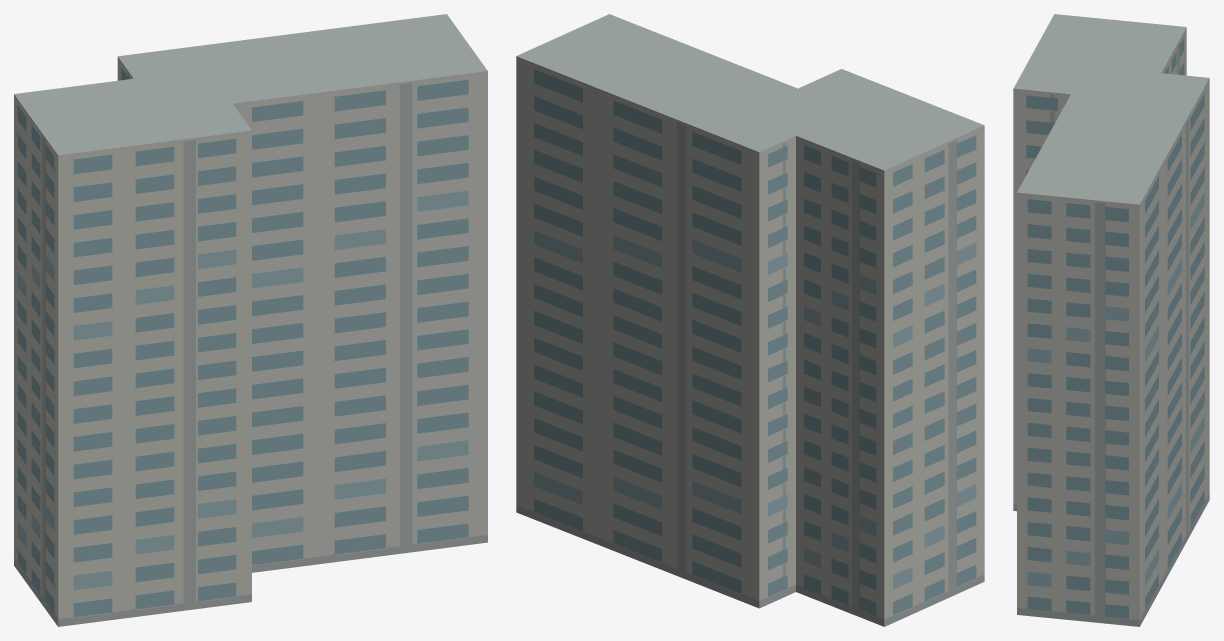
Rendered from residential-e62f8ce1-45bc-4635-9aae-20cd36d9d19c.glb.
The picture shows the model from 3 angles, left to right: view 1: azimuth 30°, elevation 25°; view 2: azimuth 150°, elevation 25°; view 3: azimuth 270°, elevation 25°; orthographic projection. The views are drawn at different scales.
Parts seen in each view (by area): view 1: residential-e62f8ce1-45bc-4635-9aae-20cd36d9d19c.tmp; view 2: residential-e62f8ce1-45bc-4635-9aae-20cd36d9d19c.tmp; view 3: residential-e62f8ce1-45bc-4635-9aae-20cd36d9d19c.tmp.
Part boxes in pixels (x1,y1,x2,y2): residential-e62f8ce1-45bc-4635-9aae-20cd36d9d19c.tmp: (14,14,487,626); residential-e62f8ce1-45bc-4635-9aae-20cd36d9d19c.tmp: (516,14,984,626); residential-e62f8ce1-45bc-4635-9aae-20cd36d9d19c.tmp: (1013,14,1209,626).
Bounding box in the file's own units: 46.5 × 48 × 20.23.
